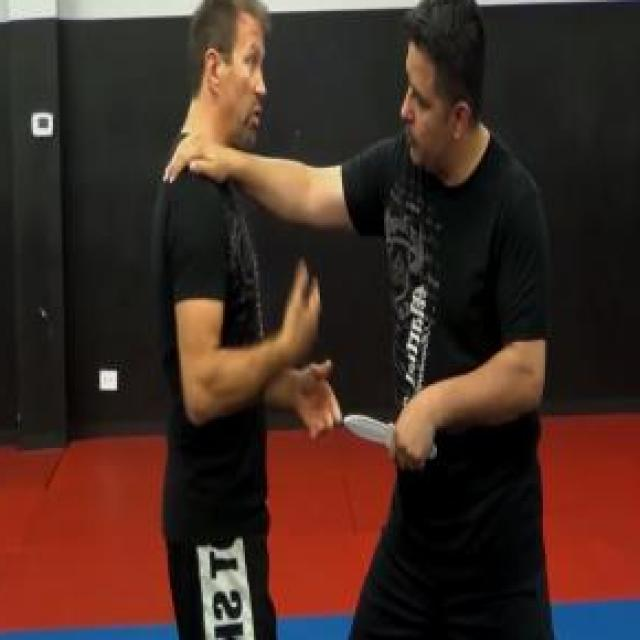knife: (342, 406, 439, 471)
